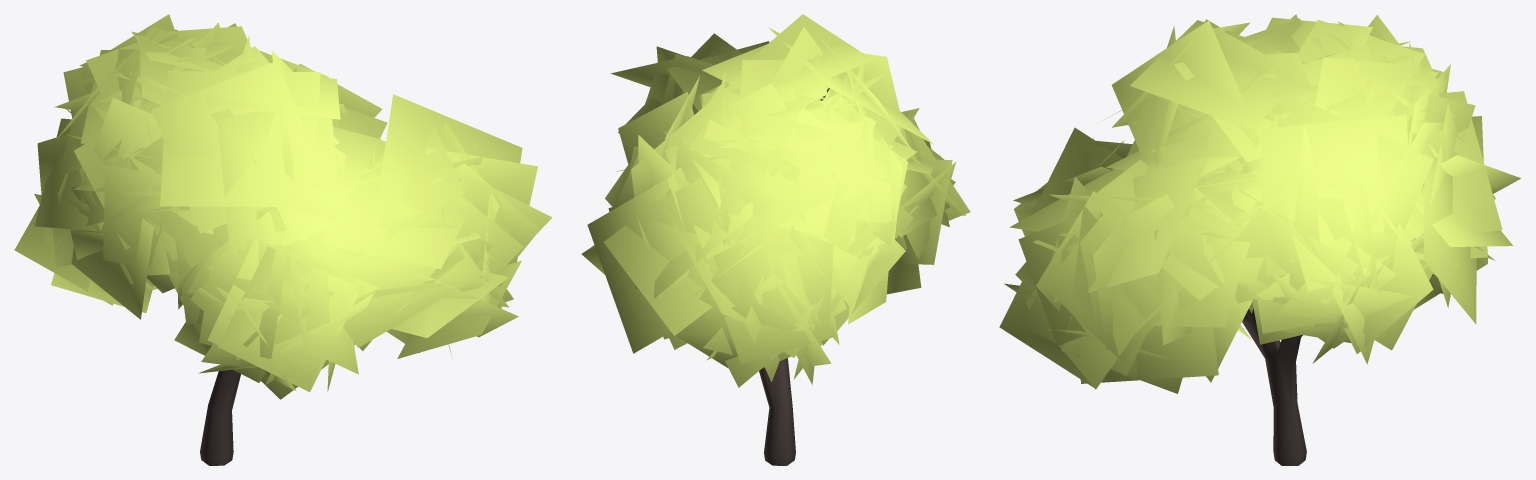
The model's file is tree2.fbx.
3 renders of one model, left to right at view 1: azimuth 30°, elevation 25°; view 2: azimuth 150°, elevation 25°; view 3: azimuth 270°, elevation 25°, orthographic. The views are drawn at different scales.
Visible parts, largest first — view 1: Leaves, Tree0; view 2: Leaves, Tree0; view 3: Leaves, Tree0.
Part boxes in pixels (x1,y1,x2,y2): Leaves: (14, 14, 552, 399); Tree0: (200, 369, 240, 465); Leaves: (581, 14, 970, 387); Tree0: (759, 88, 829, 465); Leaves: (999, 14, 1520, 393); Tree0: (1242, 308, 1306, 465).
Size of the model in its own units: 17.37 by 18.97 by 20.04.
